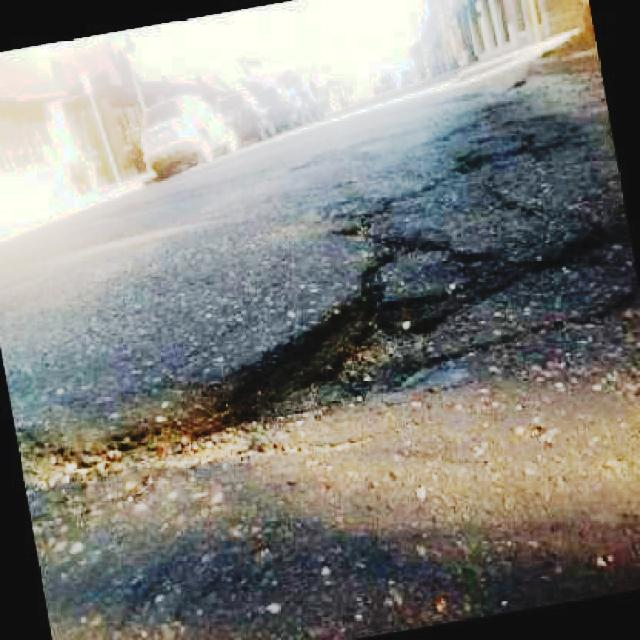pothole: (0, 283, 428, 511), (364, 223, 622, 342)
